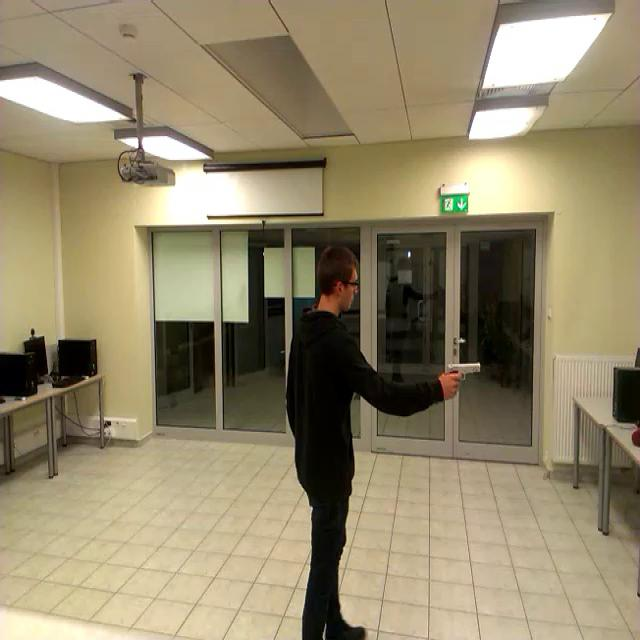handgun: (443, 357, 490, 399)
